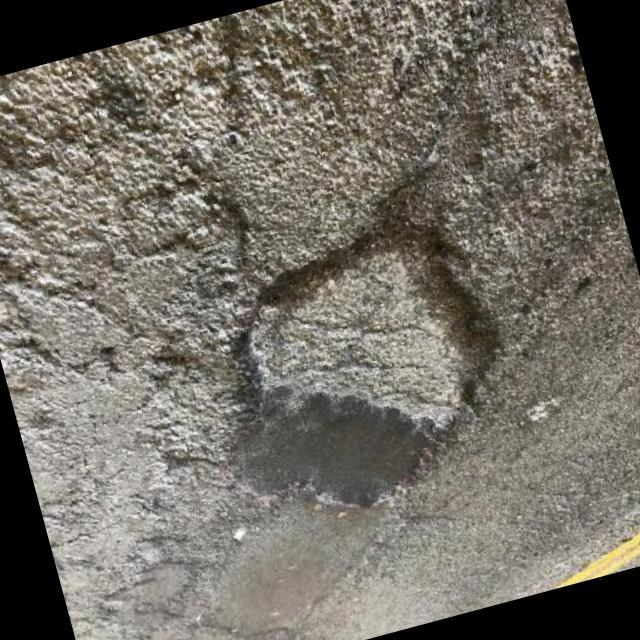pothole: (198, 214, 517, 523)
